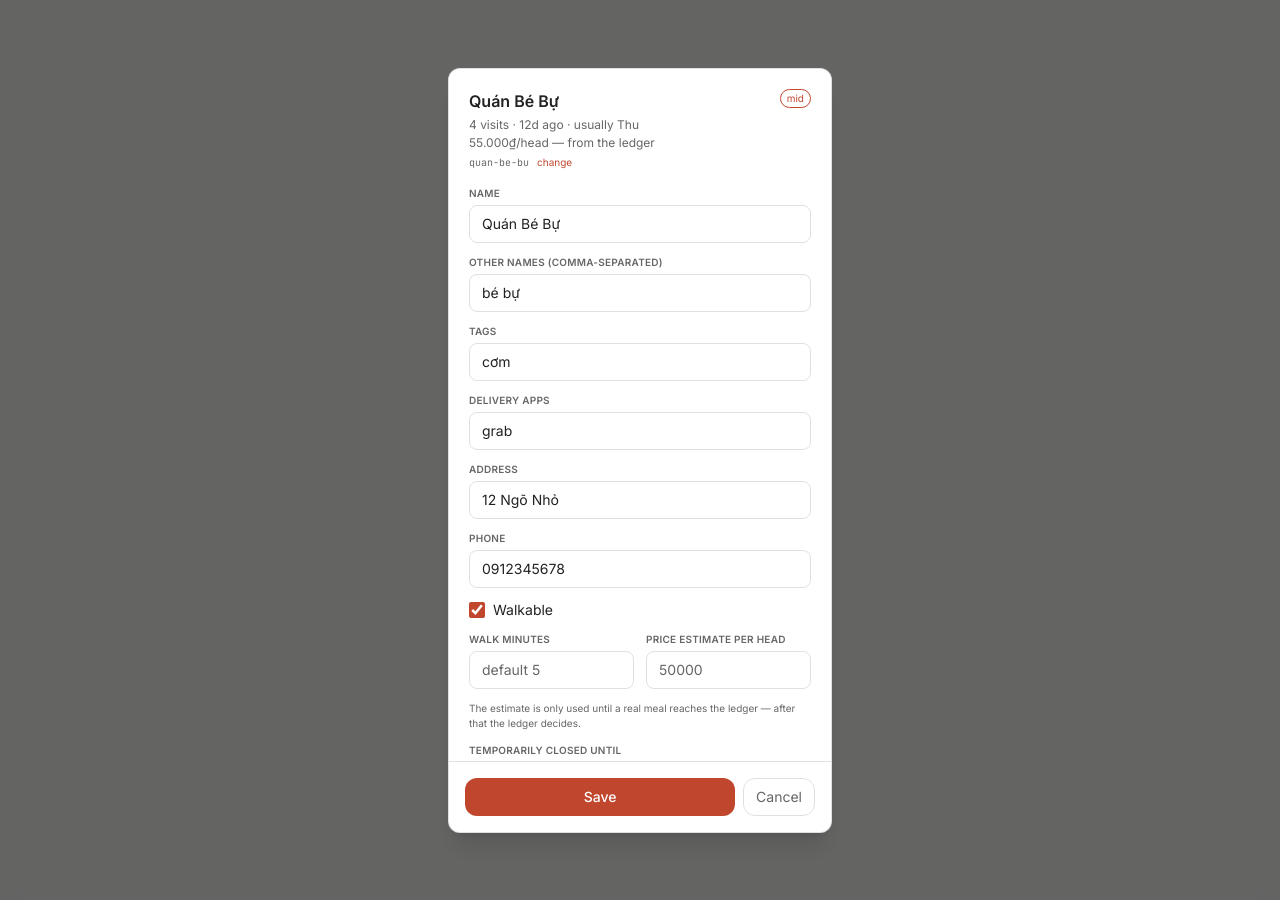
Test case: PlaceDialog — changing the identifier › shows the slug the server actually applied
The width and height of the screenshot is (1280, 900).
Step 1. Click the button "change" → point(555, 162), box [537,154,572,170]
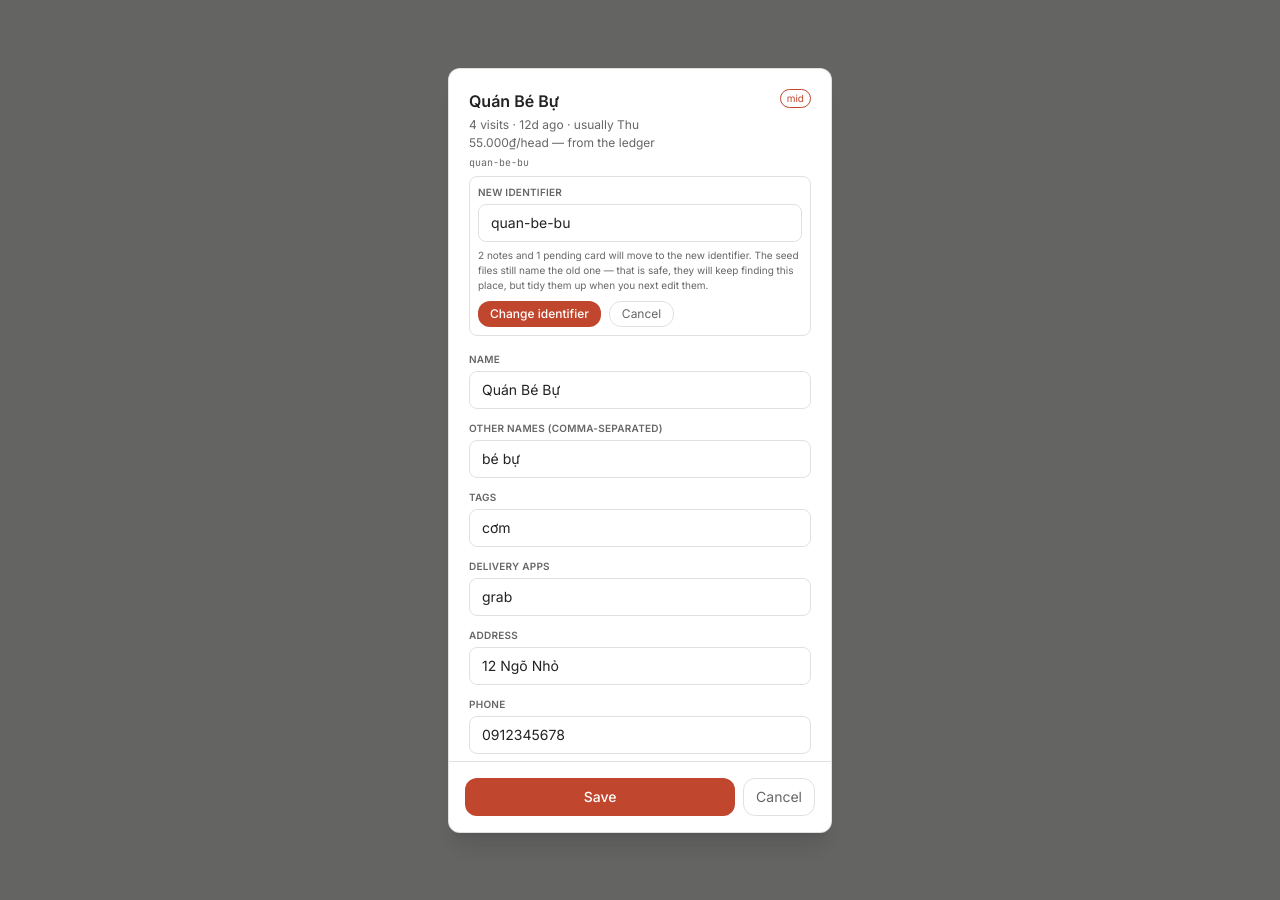
Step 2. Replace the text in the field labelled "New identifier" with "Bún Chả Hương Liên" → point(640, 222), box [478,204,802,242]
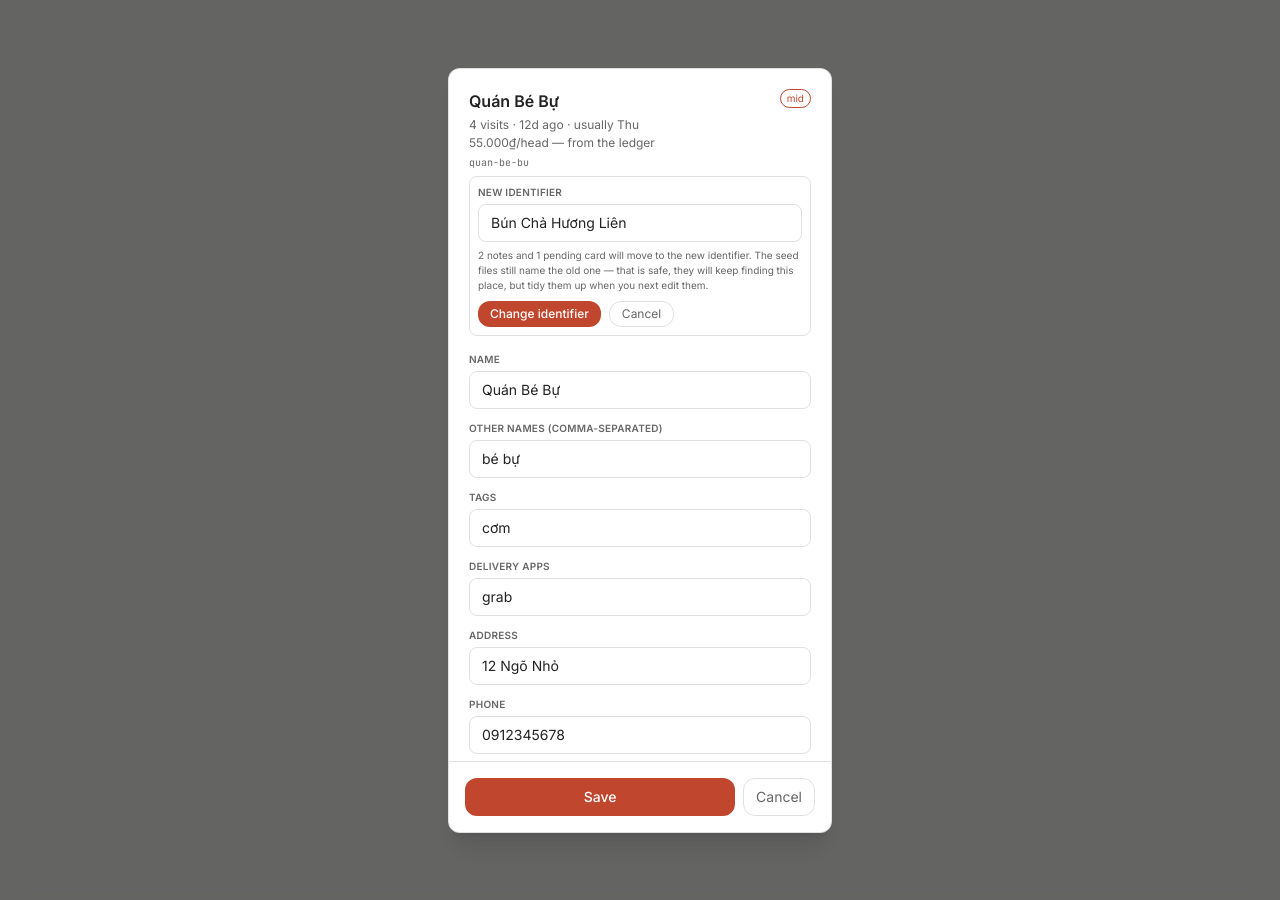
Step 3. Click the button "Change identifier" → point(539, 314), box [478,300,601,326]
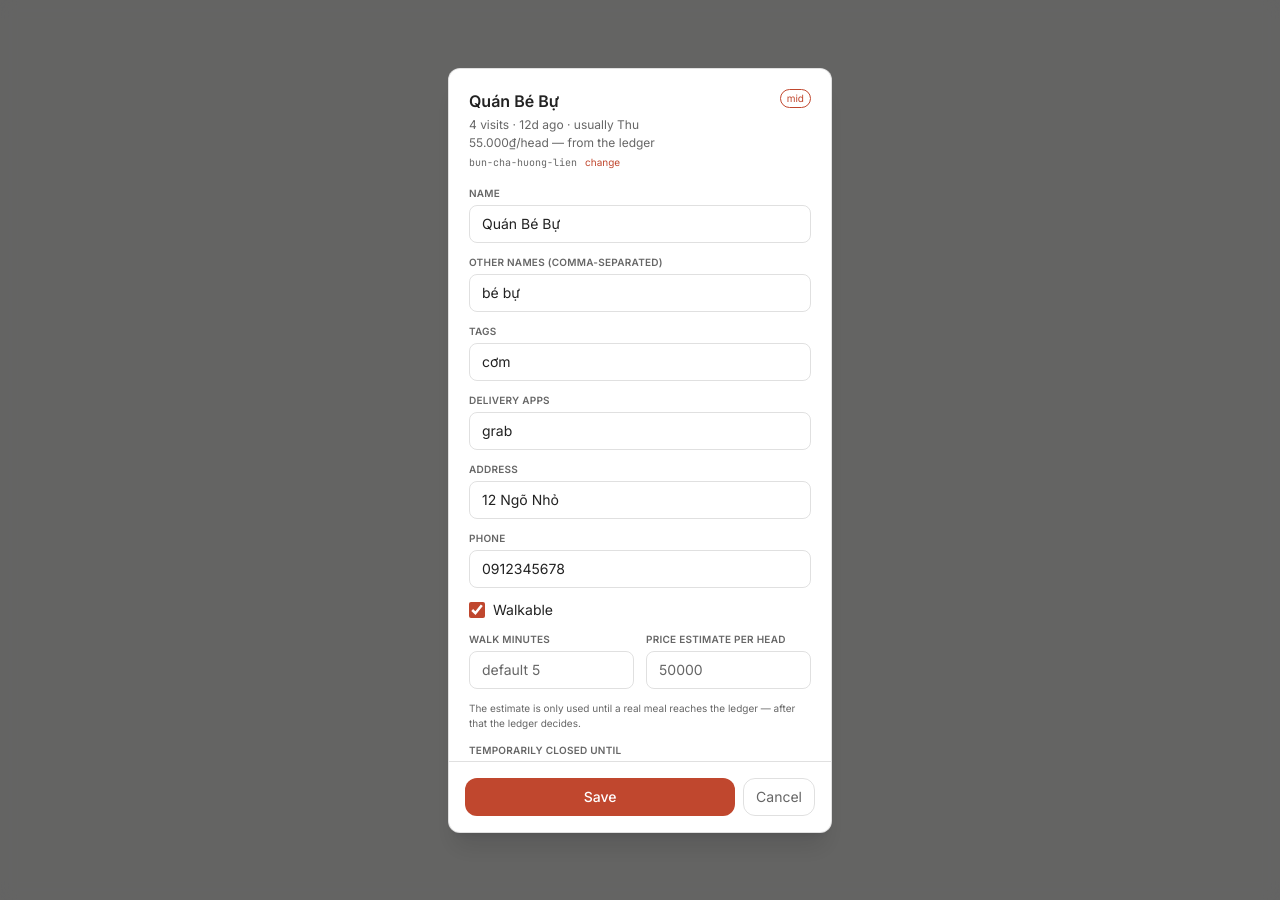
Result: the text "bun-cha-huong-lien change" is shown at [469,154,620,170]
Result: the text labelled "New identifier" is gone
